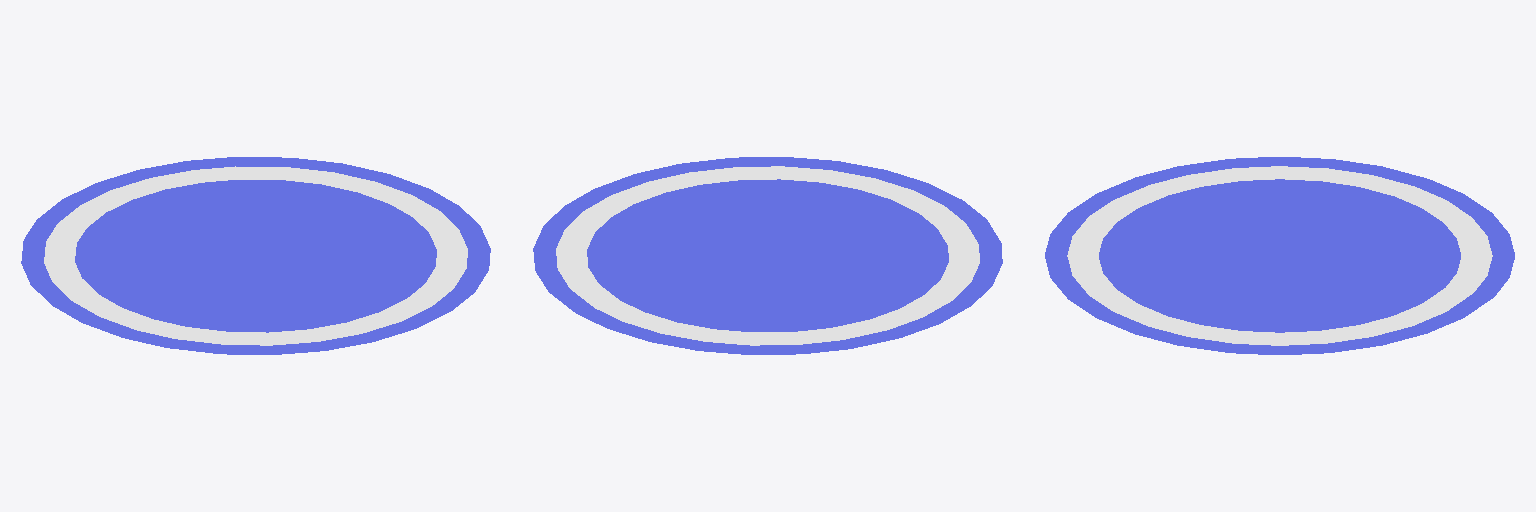
The model's file is source_dot.obj.
3 views of the same model, side by side, from view 1: azimuth 30°, elevation 25°; view 2: azimuth 150°, elevation 25°; view 3: azimuth 270°, elevation 25° (orthographic).
Parts seen in each view (by area): view 1: source_dot:pCylinder6; view 2: source_dot:pCylinder6; view 3: source_dot:pCylinder6.
Part boxes in pixels (x1,y1,x2,y2): source_dot:pCylinder6: (21, 157, 490, 354); source_dot:pCylinder6: (533, 157, 1002, 354); source_dot:pCylinder6: (1045, 157, 1514, 354).
Size of the model in its own units: 0.0847 by 0 by 0.0847.